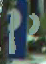Parking: (1, 5, 43, 62)
